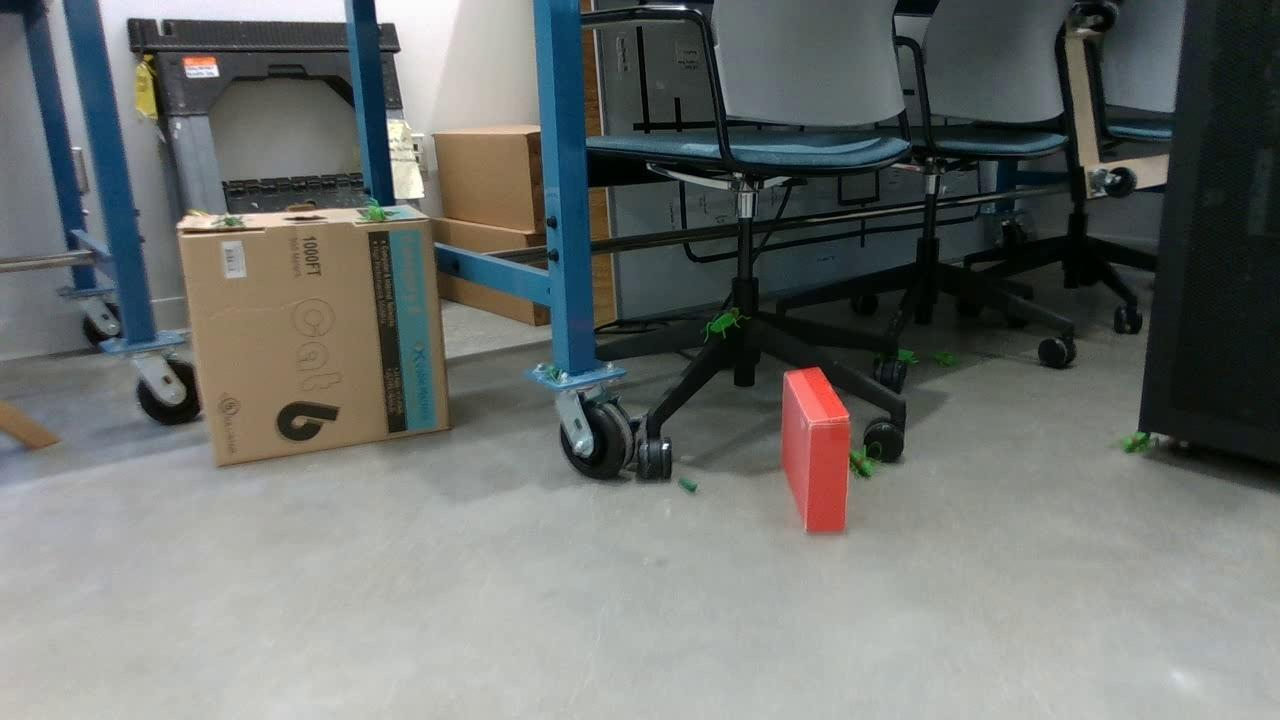grasshopper: (704, 307, 745, 345), (1110, 430, 1157, 451), (848, 448, 879, 479), (363, 200, 392, 225), (875, 350, 922, 364), (926, 350, 960, 364)
